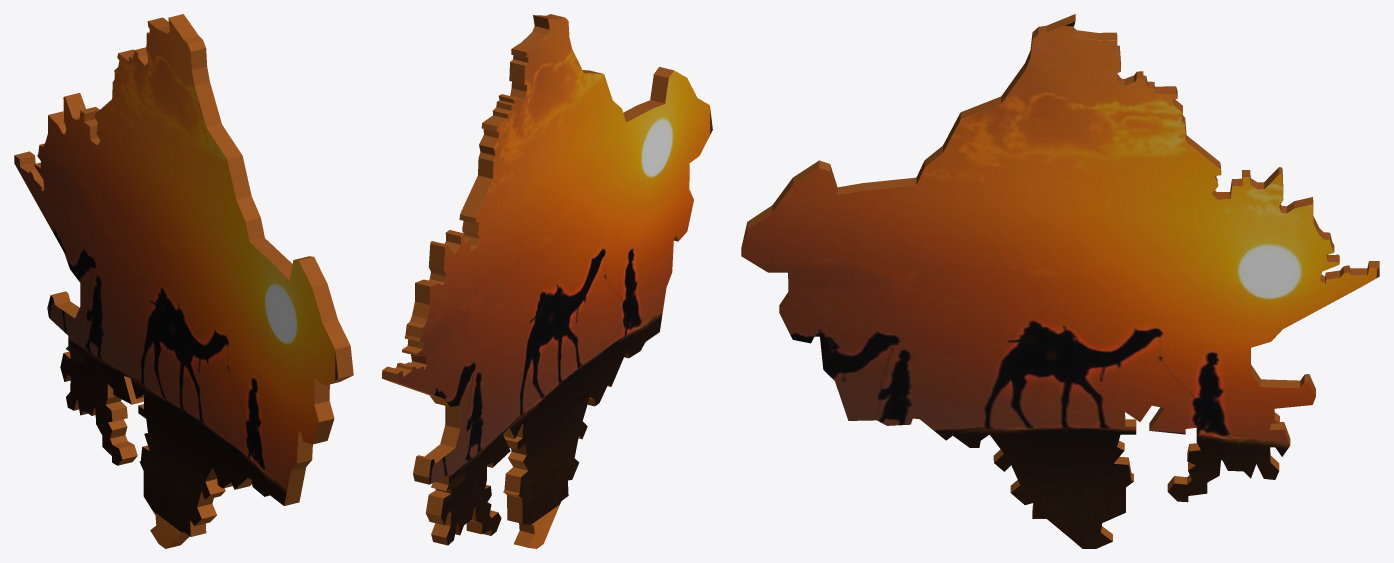
Rendered from Rajasthan.glb.
3 renders of one model, left to right at view 1: azimuth 30°, elevation 25°; view 2: azimuth 150°, elevation 25°; view 3: azimuth 270°, elevation 25°, orthographic. The views are drawn at different scales.
Parts seen in each view (by area): view 1: Object_20; view 2: Object_20; view 3: Object_20.
Boxes of the visible parts, x1=… form: Object_20: x1=14, y1=14, x2=353, y2=548; Object_20: x1=382, y1=14, x2=712, y2=548; Object_20: x1=741, y1=14, x2=1379, y2=548.
Bounding box in the file's own units: 0.0378 × 1.14 × 1.25.
Materials: 1 (1 with a texture image).
